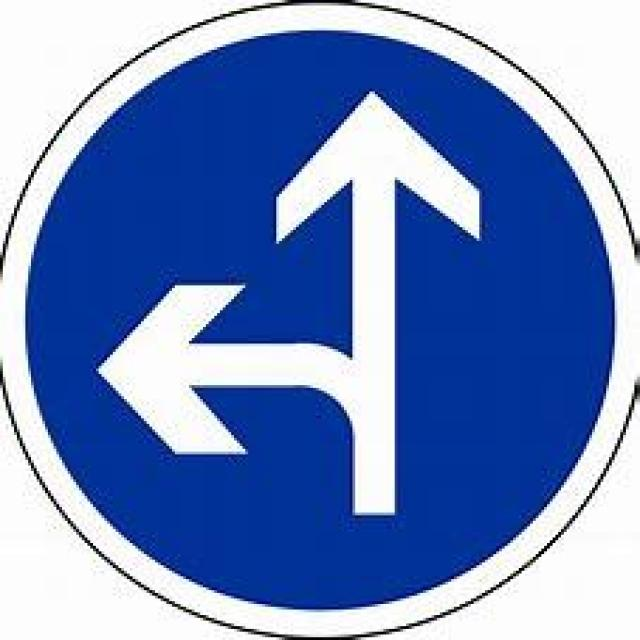compulsory_ahead: (0, 0, 637, 637)
